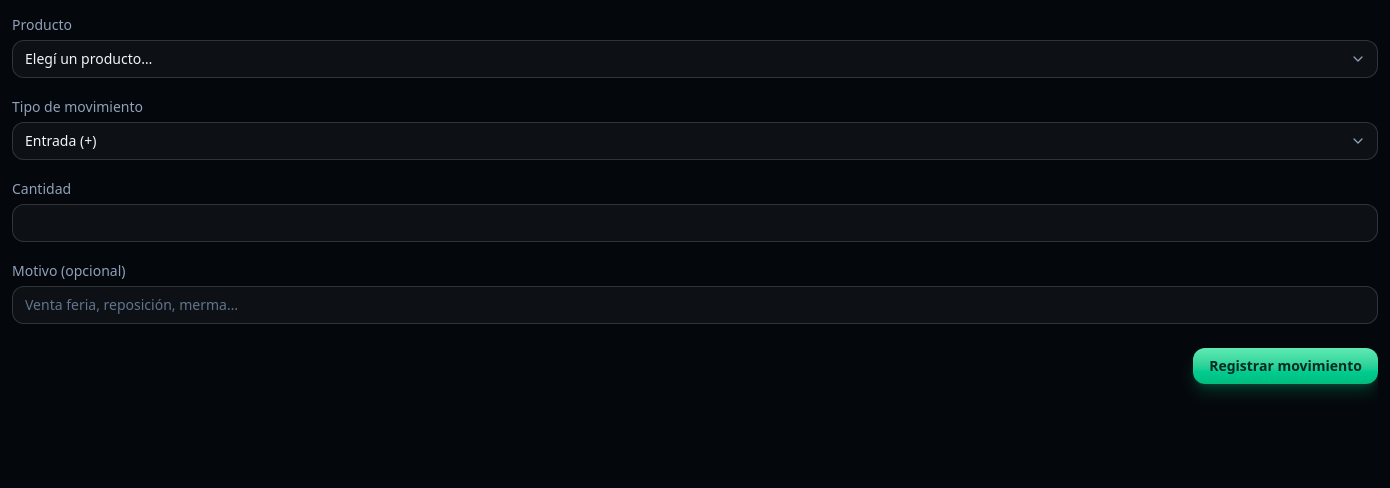
it: MovementForm › pinta el error de campo que devuelve el backend
Step 1. Select "LMP-001 · Lámpara Aurora (stock 10)" in the dropdown labelled "Producto" → point(695, 59), box top-left (12, 40), bottom-right (1378, 78)
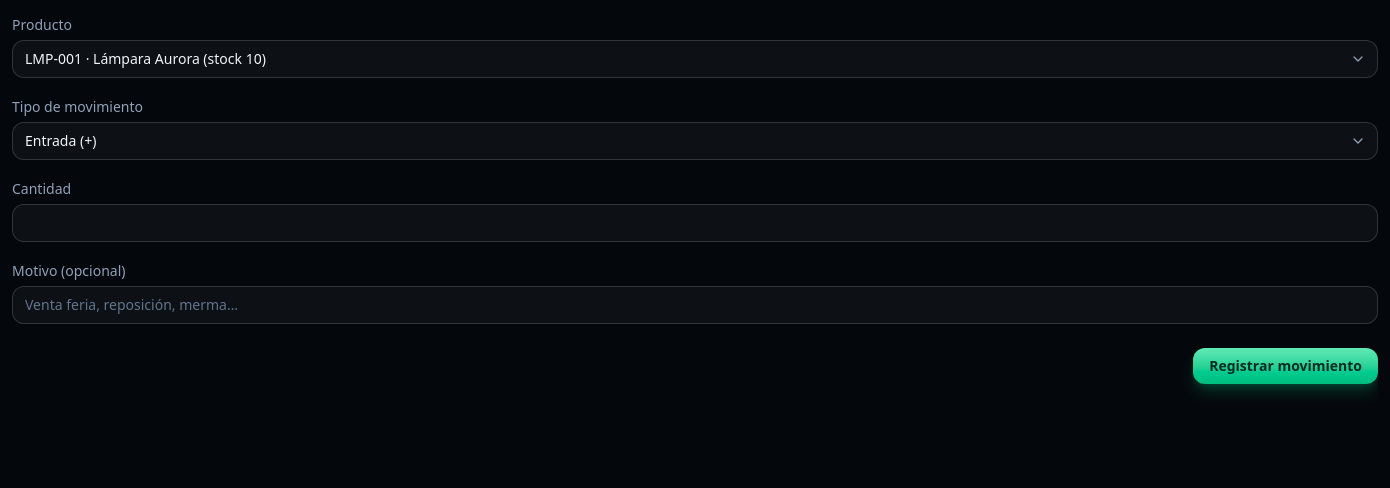
Step 2. Type "5" into the number field labelled "Cantidad" → point(695, 223), box top-left (12, 204), bottom-right (1378, 242)
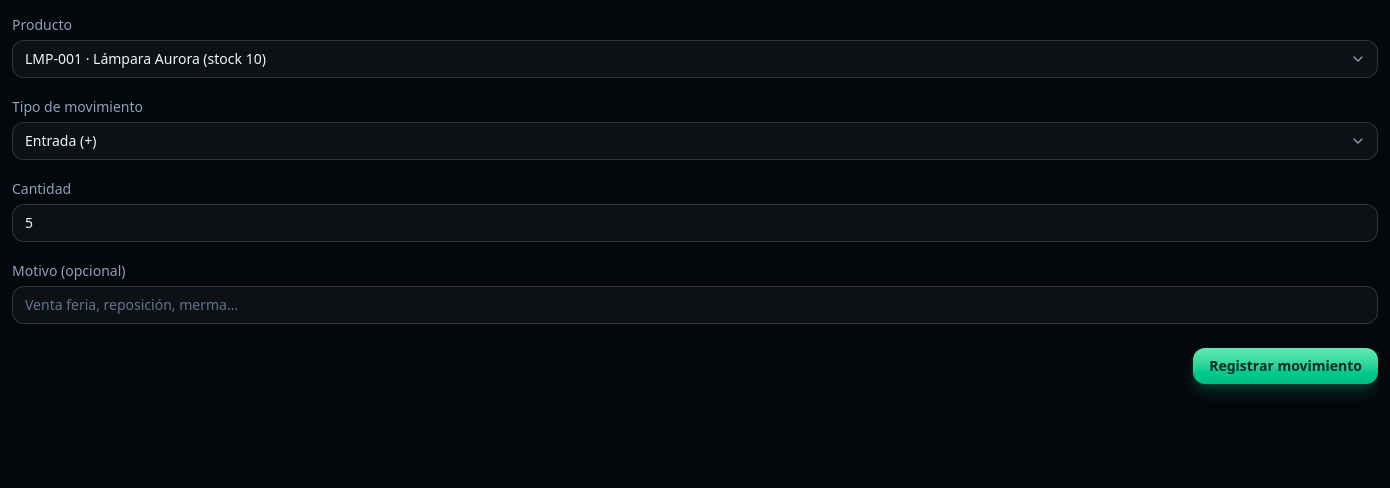
Step 3. Click the button "Registrar movimiento" → point(1286, 366), box top-left (1193, 348), bottom-right (1378, 384)
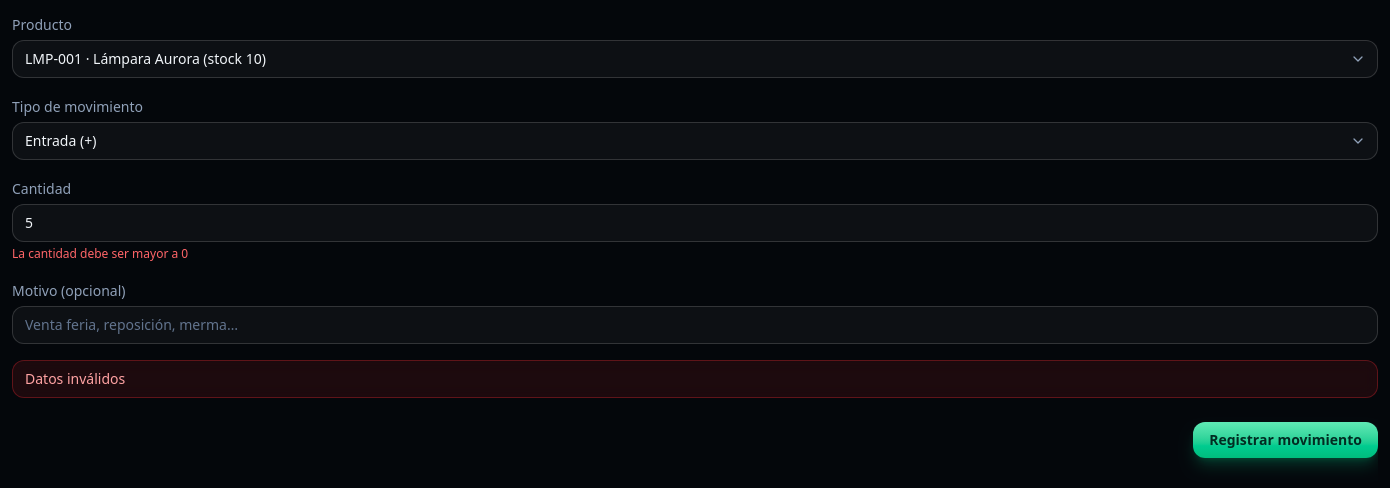
Expected: the text with test id "field-error" reads "La cantidad debe ser mayor a 0", top-left (12, 245), bottom-right (188, 262)
